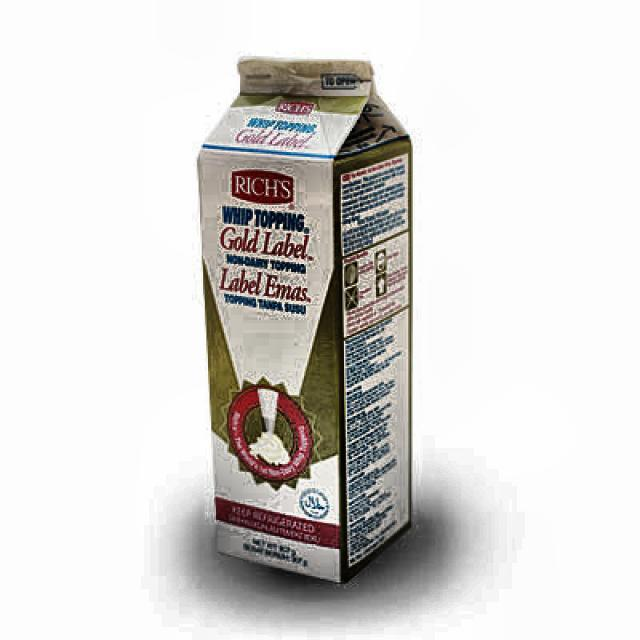cardboard: (196, 55, 414, 582)
